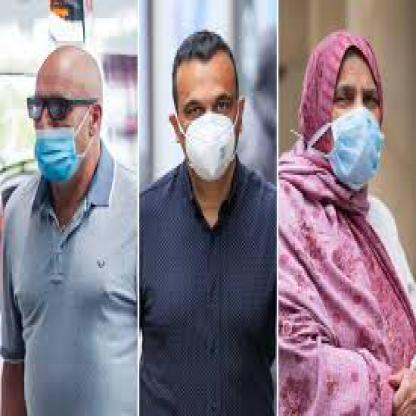Wearing_Mask: (168, 28, 242, 202), (319, 41, 390, 182), (29, 57, 89, 191)
